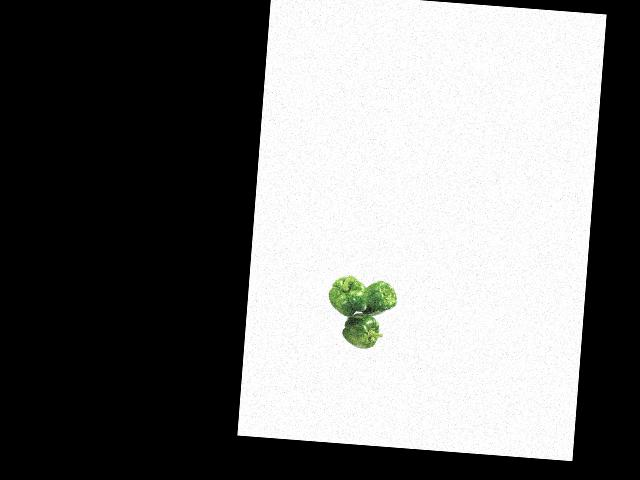bell_pepper: (323, 270, 370, 317)
